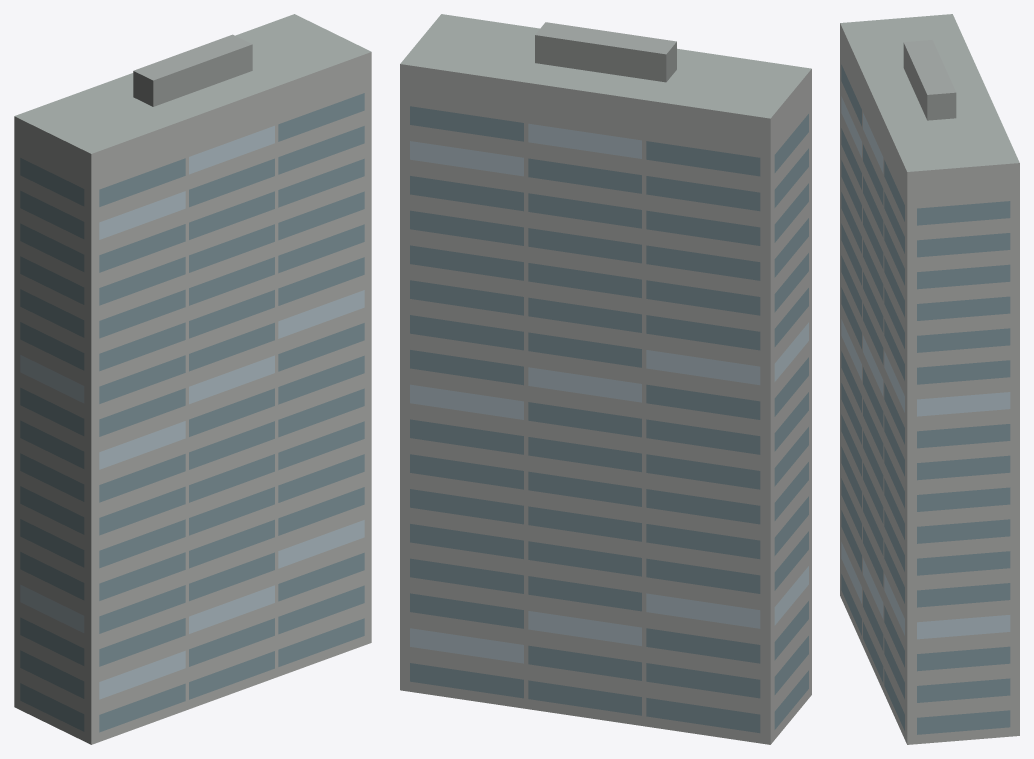
Rendered from fallback-godeok-raemian-hillstate-110.glb.
3 views of the same model, side by side, from view 1: azimuth 30°, elevation 25°; view 2: azimuth 150°, elevation 25°; view 3: azimuth 270°, elevation 25° (orthographic). The views are drawn at different scales.
Parts seen in each view (by area): view 1: fallback-godeok-raemian-hillstate-110; view 2: fallback-godeok-raemian-hillstate-110; view 3: fallback-godeok-raemian-hillstate-110.
Boxes of the visible parts, x1,y1,x2,y2 form: fallback-godeok-raemian-hillstate-110: [14, 14, 371, 744]; fallback-godeok-raemian-hillstate-110: [400, 14, 811, 744]; fallback-godeok-raemian-hillstate-110: [840, 14, 1019, 744].
Bounding box in the file's own units: 31.72 × 56 × 15.24.
